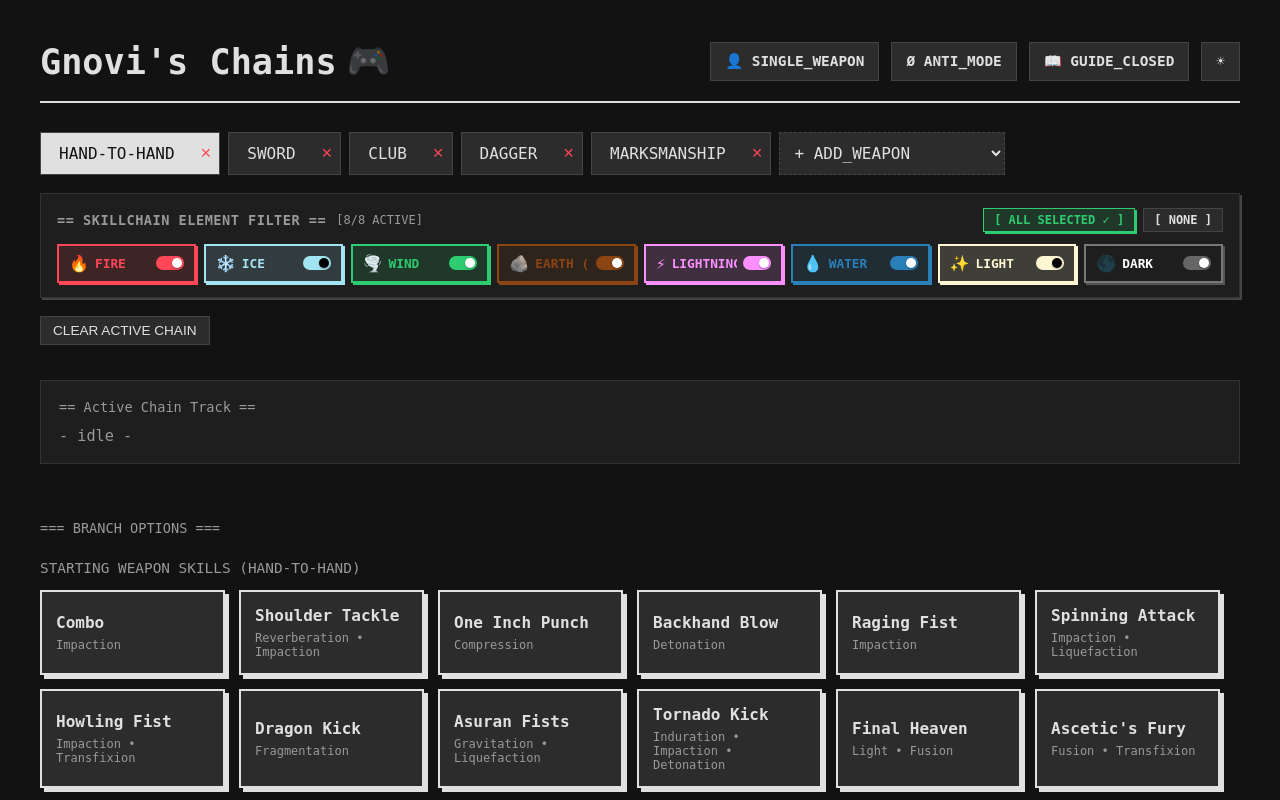
FFXI Skillchain Survival Game › warns player when attempting to select option during 4-second pause window
Click the text titled "Access FFXI Skillchain Survival Game": (369, 61) [347,40,390,82]
(page scrolled)
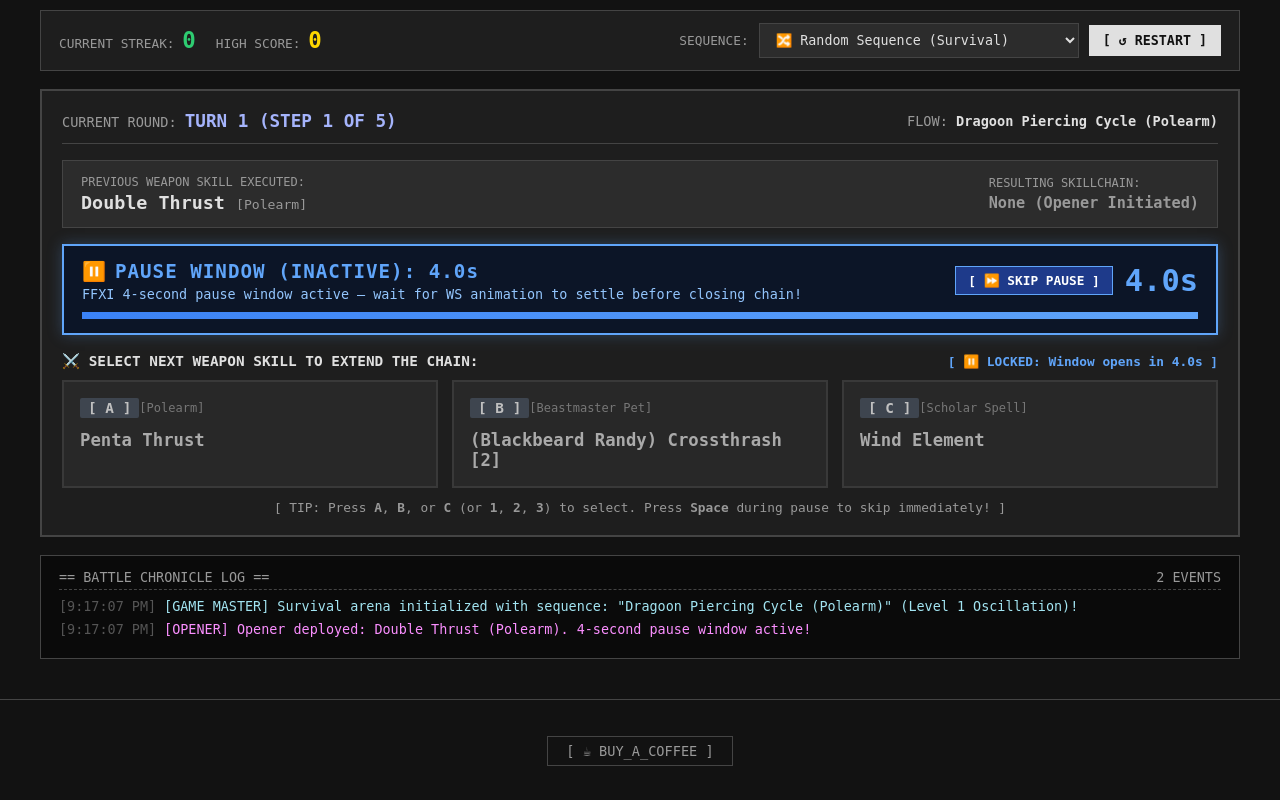
Check: the text "PAUSE WINDOW (INACTIVE): 4.0s" is shown, box [115,260,479,283]
Click the button "[ A ] [Polearm] Penta Thrust": (110, 408) [62,380,438,488]
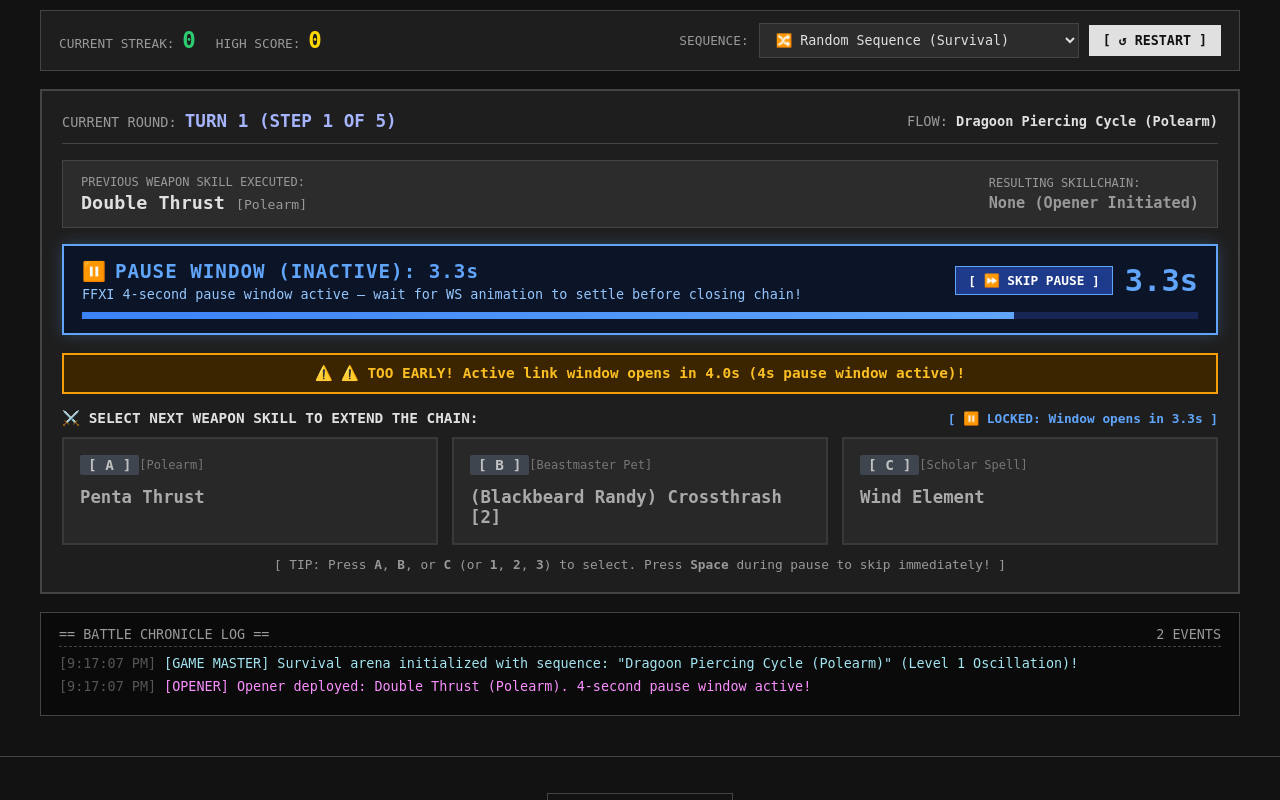
Check: the text "TOO EARLY!" is shown, box [341,365,965,381]
